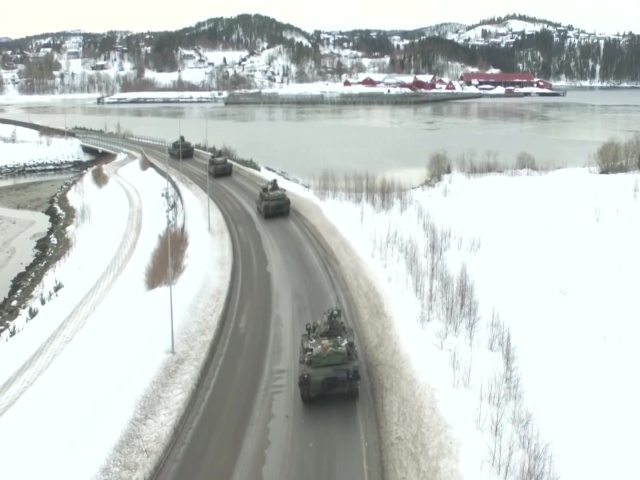vehicle: (299, 311, 361, 403), (255, 181, 294, 220), (206, 152, 232, 180), (168, 137, 195, 161)
